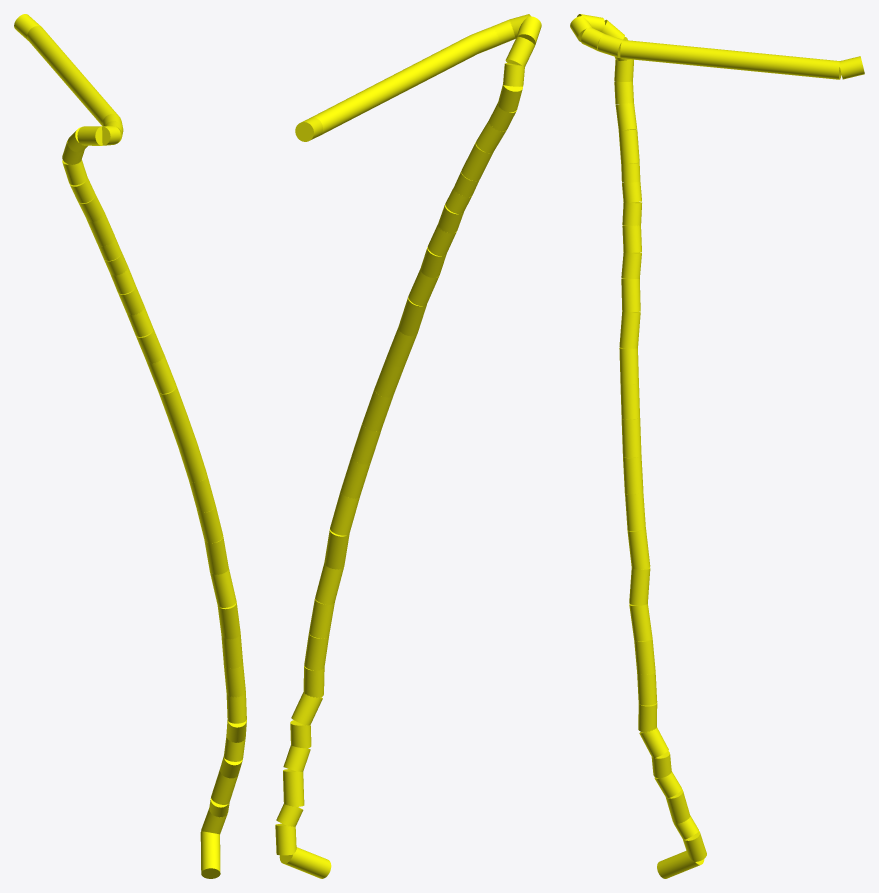
3 renders of one model, left to right at view 1: azimuth 30°, elevation 25°; view 2: azimuth 150°, elevation 25°; view 3: azimuth 270°, elevation 25°, orthographic. The views are drawn at different scales.
Visible parts, largest first — view 1: Cylinder(Clone) (×20); view 2: Cylinder(Clone) (×24); view 3: Cylinder(Clone) (×15).
Boxes of the visible parts, x1,y1,x2,y2 form: Cylinder(Clone) (×20): (27,26,246,878); Cylinder(Clone) (×24): (275,35,534,878); Cylinder(Clone) (×15): (618,40,841,878).
Size of the model in its own units: 0.1187 by 0.4666 by 0.1577.
